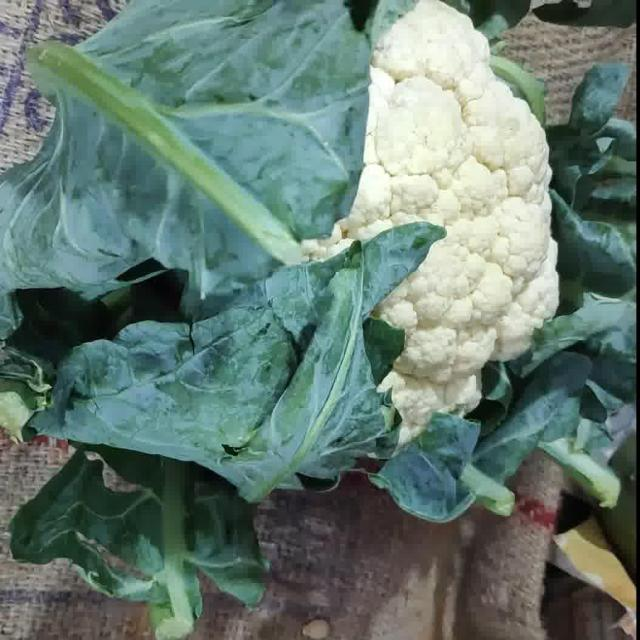Cauliflower: (302, 0, 559, 444)
